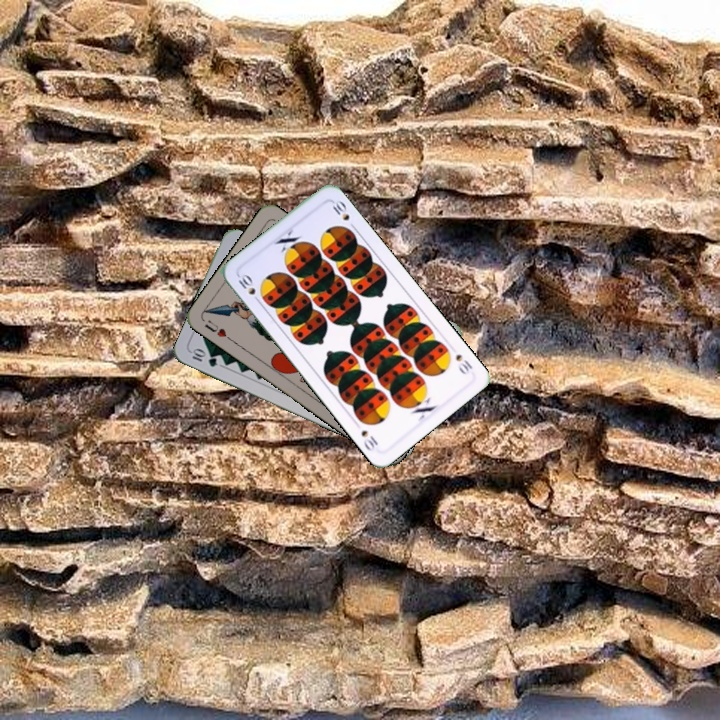G10: (187, 345, 220, 370)
HU: (200, 316, 235, 344)
S10: (234, 270, 263, 306), (451, 350, 475, 377)
